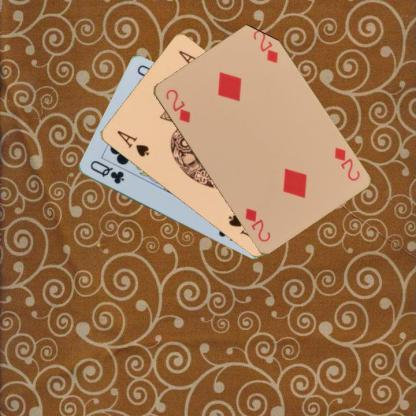2d: (162, 86, 192, 124), (331, 144, 361, 182)
As: (114, 128, 150, 158)
Qc: (87, 158, 125, 185)
